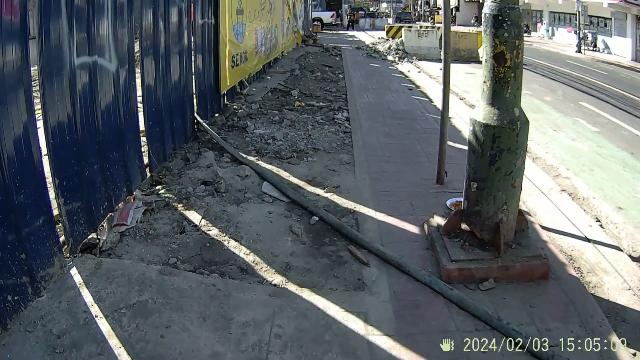cracked_pavement: (128, 162, 348, 268), (214, 95, 340, 151), (270, 53, 348, 87)
utility_post: (448, 1, 568, 293)
